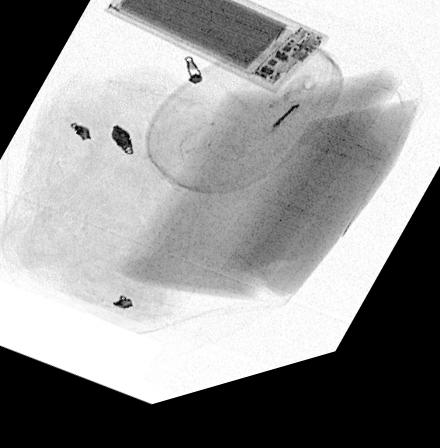Powerbank: (102, 0, 327, 110)
